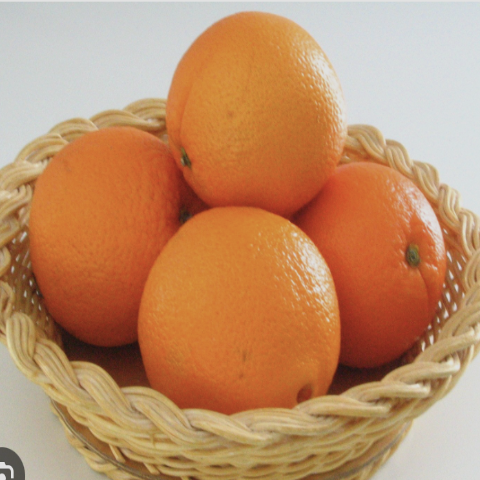orange: (132, 183, 355, 446), (7, 121, 202, 341), (154, 0, 347, 201), (285, 152, 462, 337)
